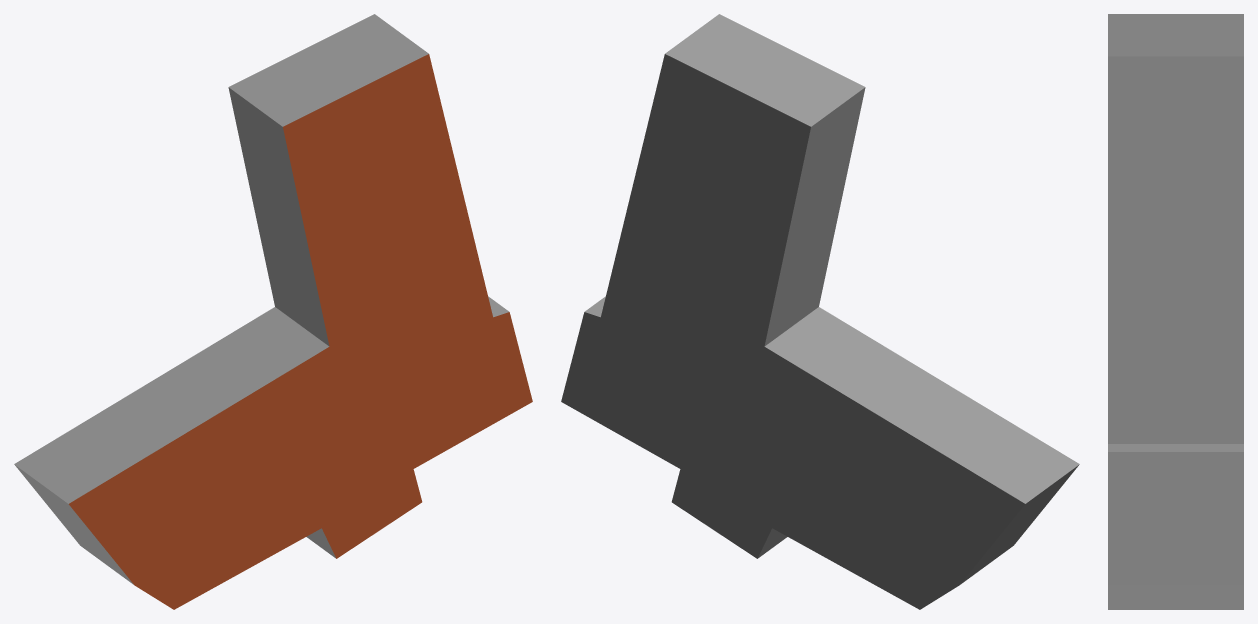
Rendered from construction_4121_assumed_A_Casa_h6m.obj.
3 views of the same model, side by side, from view 1: azimuth 30°, elevation 25°; view 2: azimuth 150°, elevation 25°; view 3: azimuth 270°, elevation 25° (orthographic). The views are drawn at different scales.
Parts seen in each view (by area): view 1: construction_4121_assumed_A_Casa; view 2: construction_4121_assumed_A_Casa; view 3: construction_4121_assumed_A_Casa.
Part boxes in pixels (x1=…): construction_4121_assumed_A_Casa: x1=14, y1=14, x2=532, y2=609; construction_4121_assumed_A_Casa: x1=561, y1=14, x2=1079, y2=609; construction_4121_assumed_A_Casa: x1=1108, y1=14, x2=1243, y2=609.
Bounding box in the file's own units: 29.56 × 30.04 × 6.
